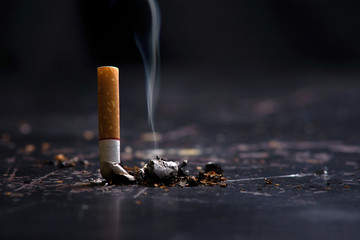cigarette: (93, 62, 190, 187)
